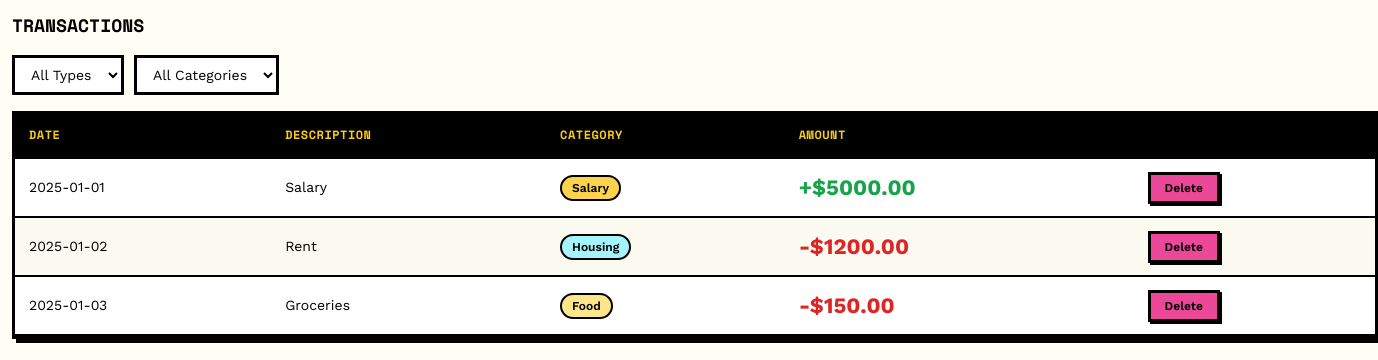
Test: TransactionList › shows confirmation modal on delete click
Click the button "Delete" in the row of "2025-01-01" at (1184, 188), box [1148,172,1220,204]
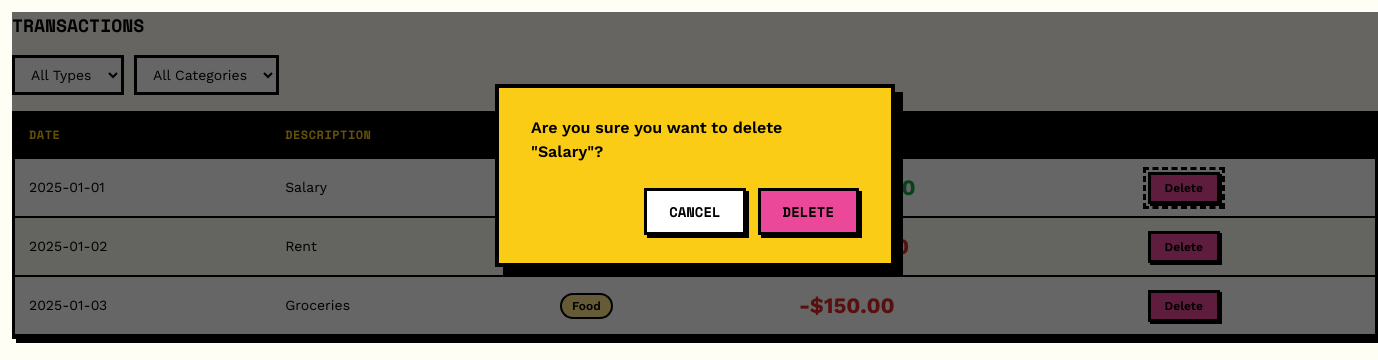
Expected: the text "Are you sure you want to delete \"Salary\"?" is shown, [531,118,782,161]
